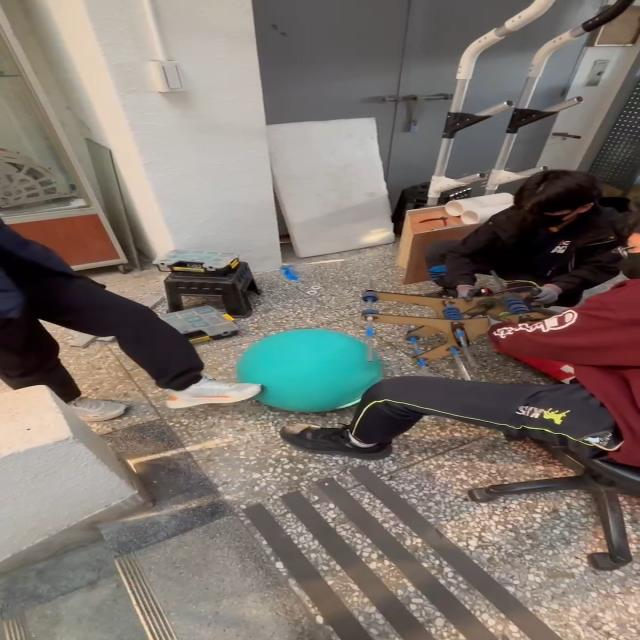ALGAE: (232, 328, 384, 413)
